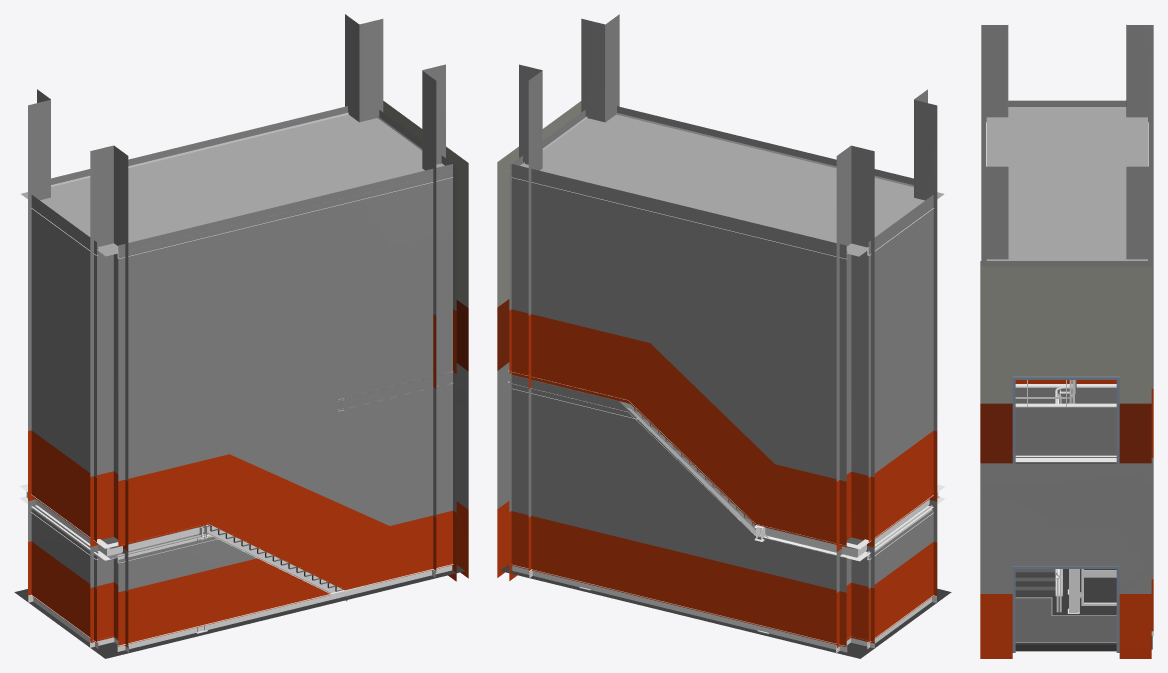
Rendered from SM_H_Building_Tide_Loungehall_12_ATLAS.fbx.
The picture shows the model from 3 angles, left to right: view 1: azimuth 30°, elevation 25°; view 2: azimuth 150°, elevation 25°; view 3: azimuth 270°, elevation 25°; orthographic projection. The views are drawn at different scales.
Parts seen in each view (by area): view 1: SM_H_Building_Tide_Loungehall_12_ATLAS; view 2: SM_H_Building_Tide_Loungehall_12_ATLAS; view 3: SM_H_Building_Tide_Loungehall_12_ATLAS.
Part boxes in pixels (left/top/right/bottom): SM_H_Building_Tide_Loungehall_12_ATLAS: left=14, top=14, right=468, bottom=658; SM_H_Building_Tide_Loungehall_12_ATLAS: left=497, top=14, right=951, bottom=658; SM_H_Building_Tide_Loungehall_12_ATLAS: left=980, top=24, right=1153, bottom=658.
Size of the model in its own units: 1073 by 467 by 1421.
